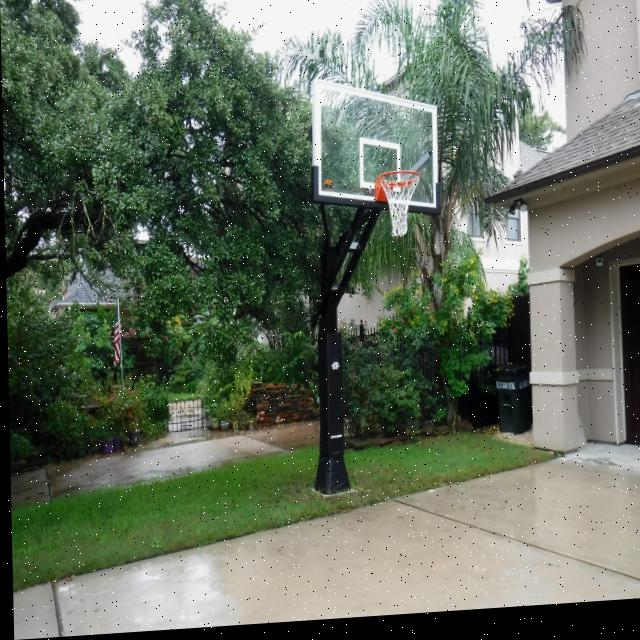hoop: (378, 169, 422, 238)
